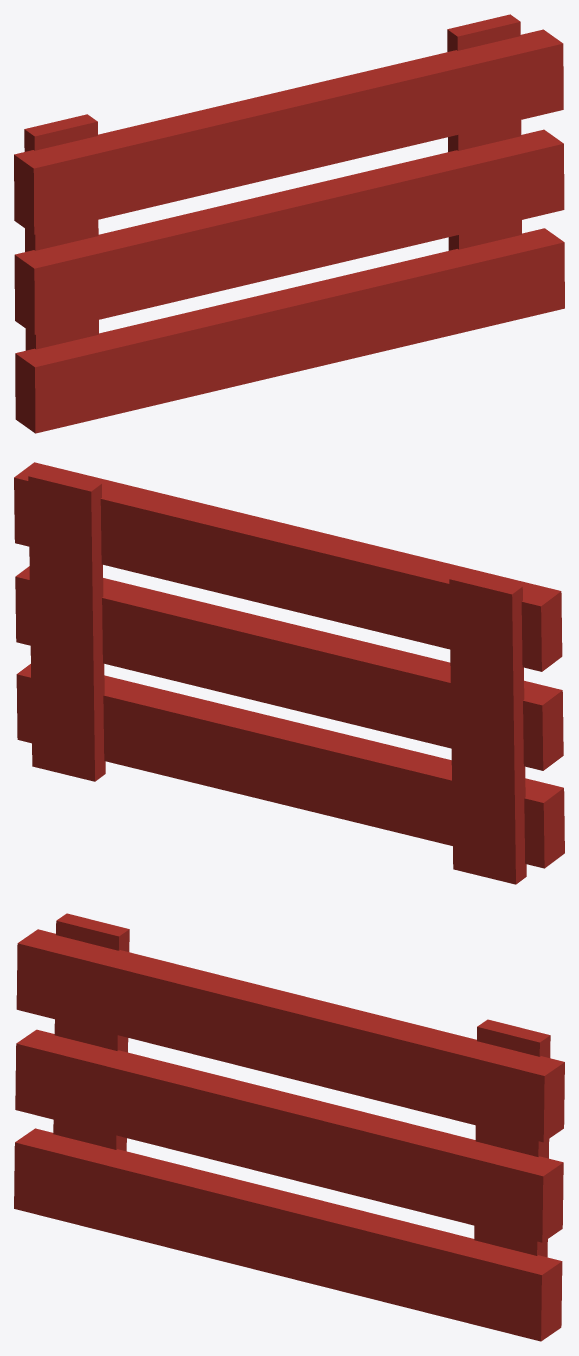
The picture shows the model from 3 angles, top to bottom: view 1: azimuth 30°, elevation 25°; view 2: azimuth 150°, elevation 25°; view 3: azimuth 330°, elevation 25°; orthographic projection.
Visible parts, largest first — view 1: OJ6_3; view 2: OJ6_3; view 3: OJ6_3.
Boxes of the visible parts, x1,y1,x2,y2 form: OJ6_3: (14,14,564,433); OJ6_3: (14,462,564,884); OJ6_3: (14,913,564,1341).
Bounding box in the file's own units: 1.79 × 0.9498 × 0.2003.
